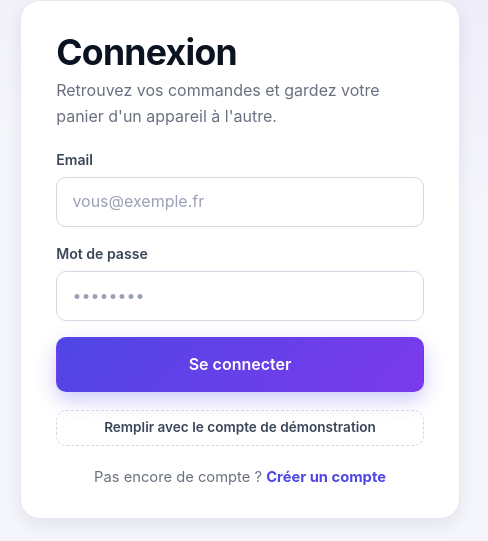
Test: LoginPage › pré-remplit le formulaire avec le compte de démonstration
Click the button "Remplir avec le compte de démonstration": click(240, 428) [56, 410, 424, 446]
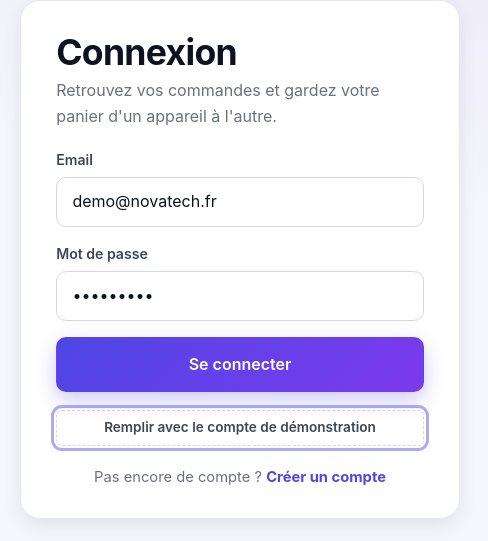
Now the field labelled "Email" holds "demo@novatech.fr", box [56, 177, 424, 227]
Now the password field labelled "Mot de passe" holds "Demo1234!", box [56, 271, 424, 321]
